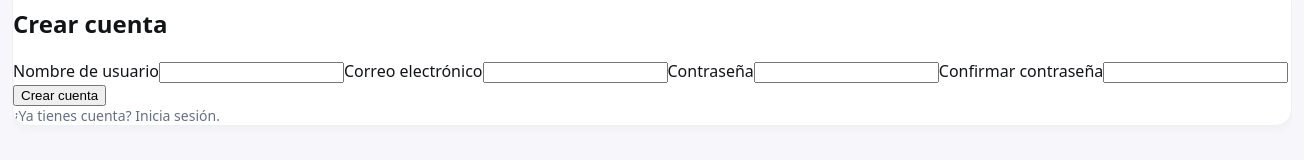
Scenario: RegisterPage › error del backend se muestra
In the field labelled "Nombre de usuario": (252, 72) [159,62,344,83], type "demo"
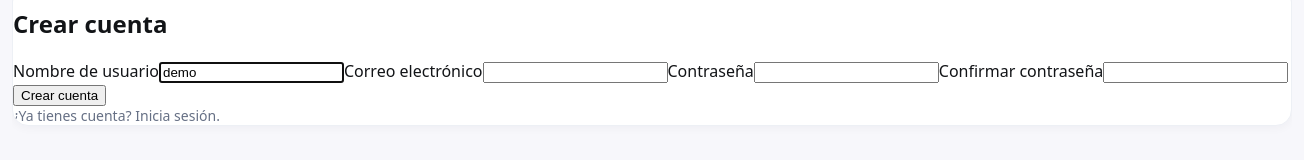
In the field labelled "Correo electrónico": (575, 72) [482,62,668,83], type "demo@mail.com"
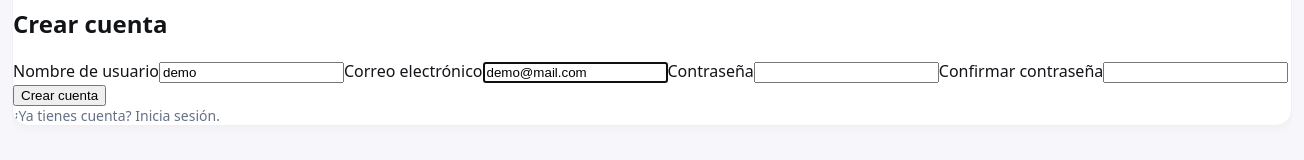
In the password field labelled "Contraseña": (846, 72) [754,62,939,83], type "123456"
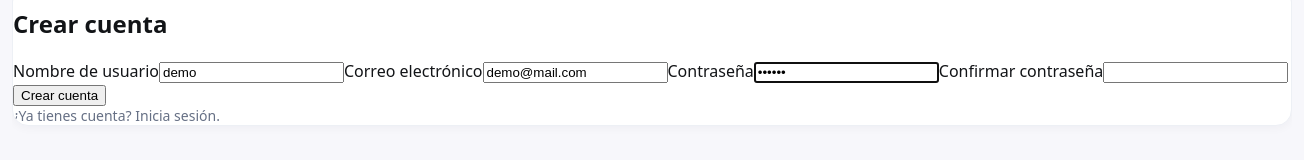
In the password field labelled "Confirmar contraseña": (1196, 72) [1103,62,1288,83], type "123456"
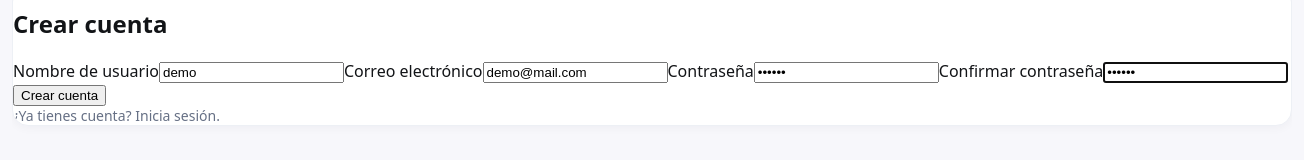
Click the button "Crear cuenta": (60, 95) [13,85,106,106]
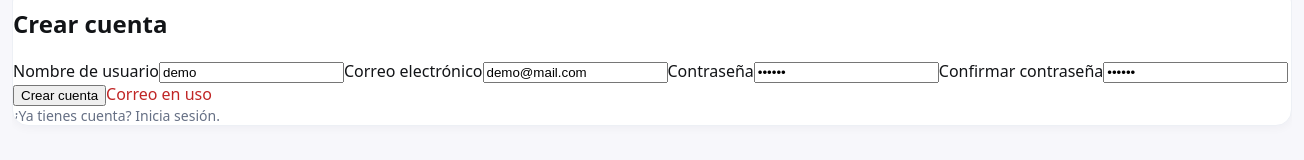
Expected: the text "Correo en uso" is shown, [106,83,212,105]
